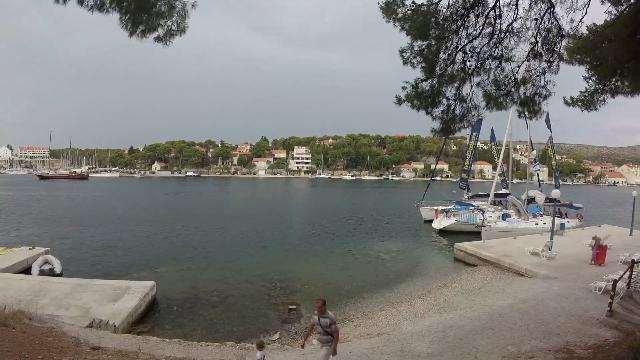Freighter: (31, 162, 98, 184)
